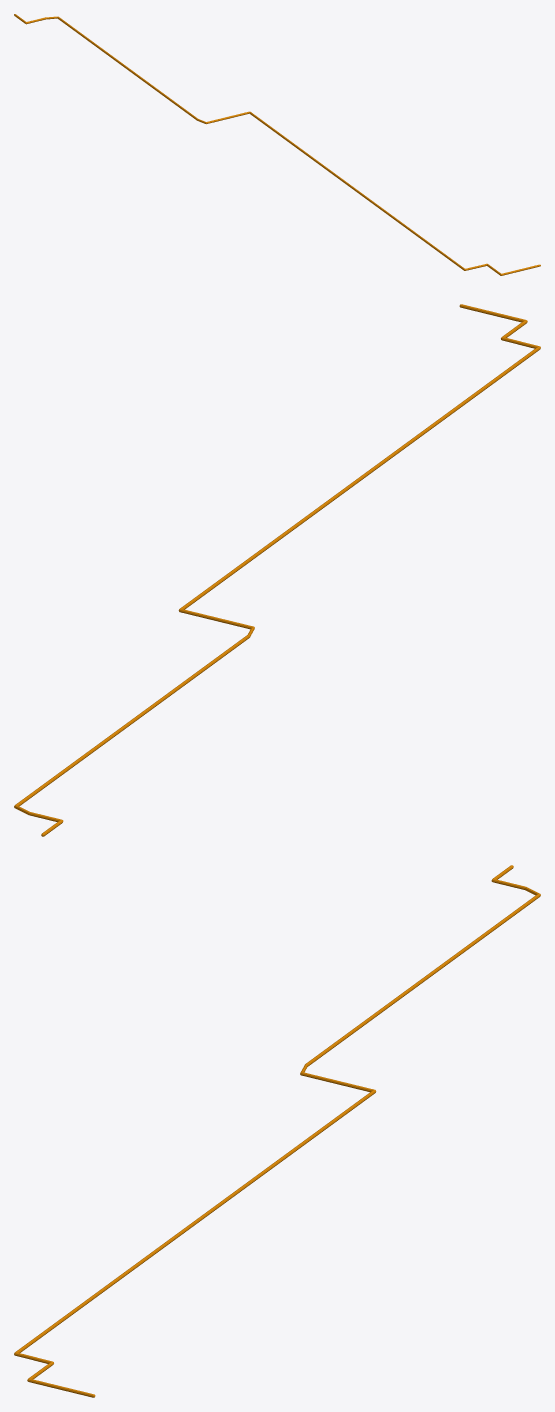
3 views of the same model, one above another, from view 1: azimuth 30°, elevation 25°; view 2: azimuth 150°, elevation 25°; view 3: azimuth 330°, elevation 25° (orthographic). The views are drawn at different scales.
Size of the model in its own units: 1435 by 20 by 6961.
